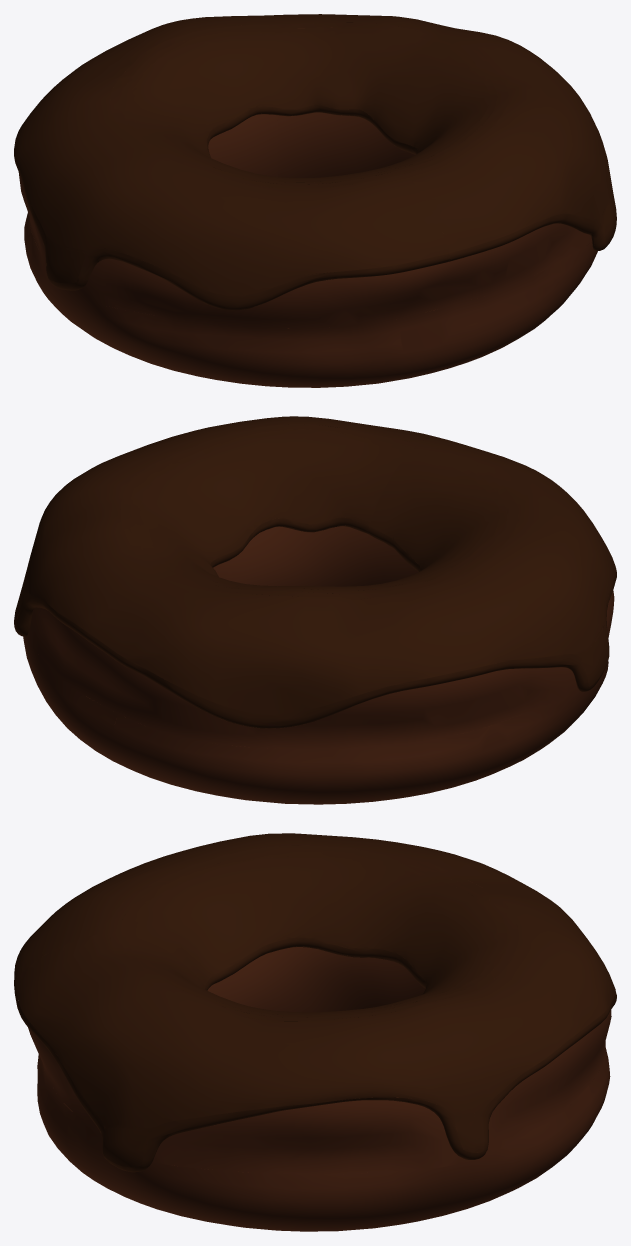
Rendered from donut12.glb.
3 renders of one model, top to bottom at view 1: azimuth 30°, elevation 25°; view 2: azimuth 150°, elevation 25°; view 3: azimuth 270°, elevation 25°, orthographic. The views are drawn at different scales.
Parts seen in each view (by area): view 1: Donut12; view 2: Donut12; view 3: Donut12.
Part boxes in pixels (x1,y1,x2,y2): Donut12: (14,14,616,387); Donut12: (14,416,616,804); Donut12: (14,833,616,1231).
Bounding box in the file's own units: 2.41 × 0.8898 × 2.35.
Materials: 1 (1 with a texture image).
